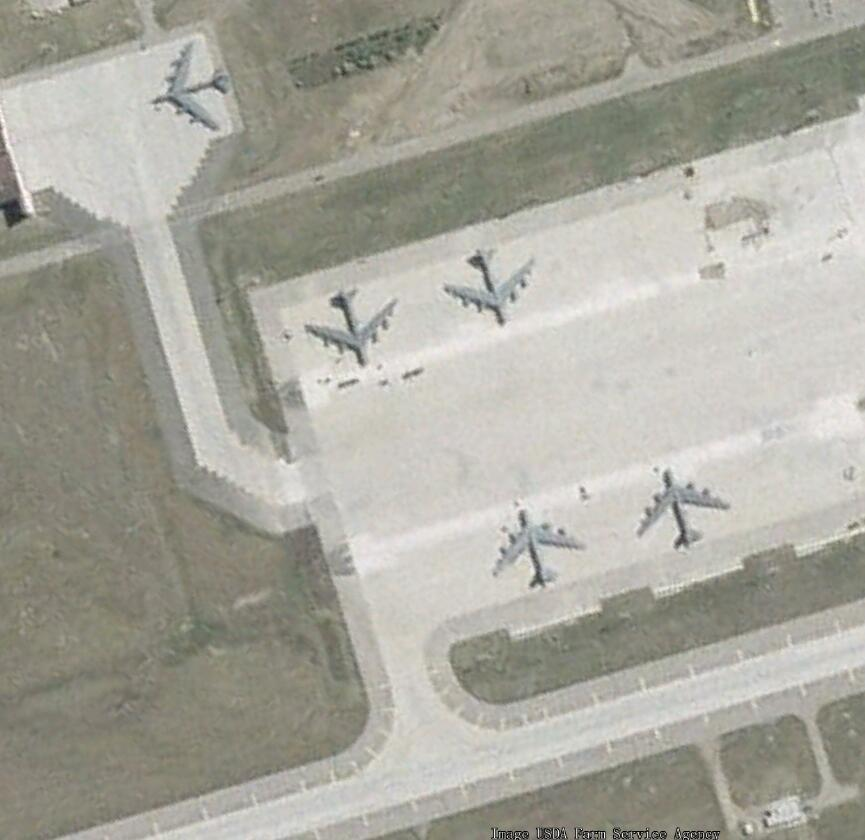A8: (141, 37, 236, 134), (485, 501, 587, 590), (628, 466, 732, 551), (437, 247, 538, 332), (296, 289, 400, 371)
